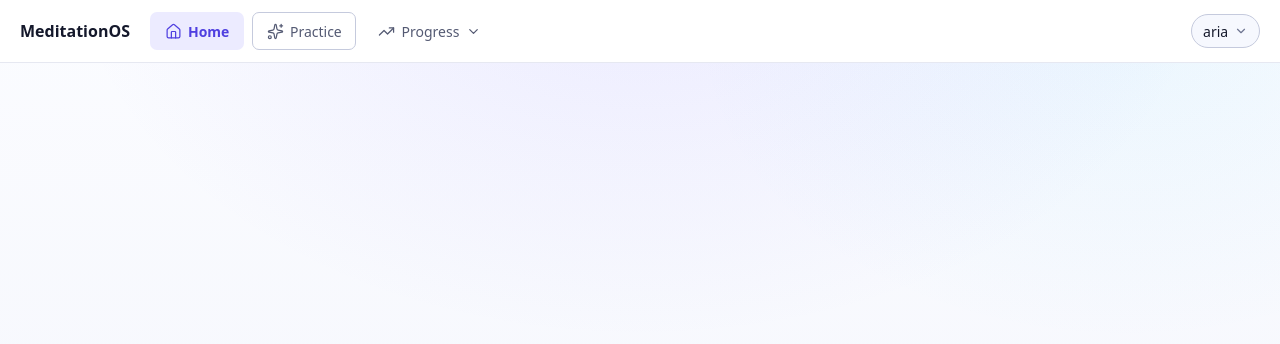
AppHeader — grouped navigation › Escape closes the open Progress menu
Click the button "Progress": (429, 31) [364, 12, 495, 50]
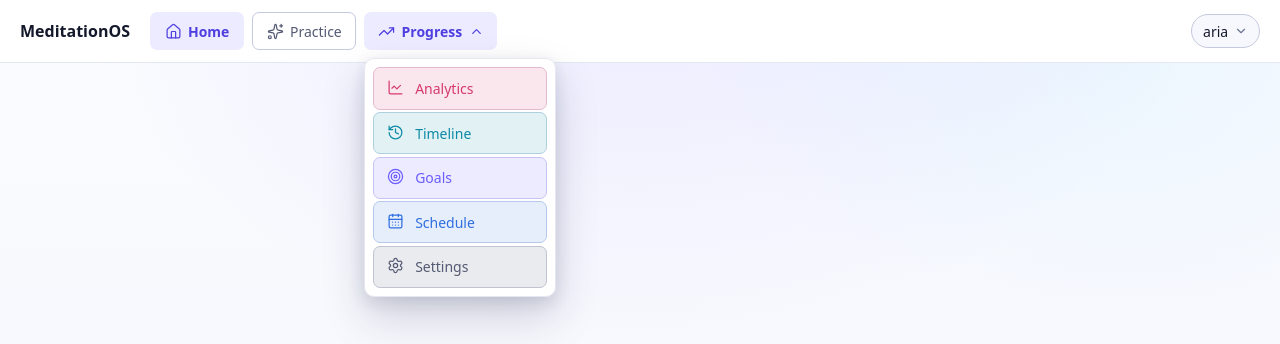
Check: the button "Progress" is expanded, box [364, 12, 497, 50]
Press Escape
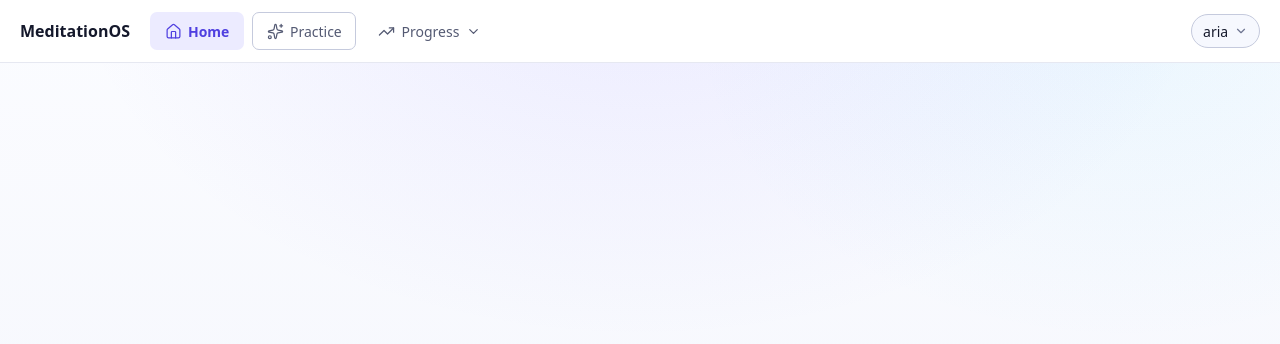
Check: the button "Progress" is collapsed, box [364, 12, 495, 50]
